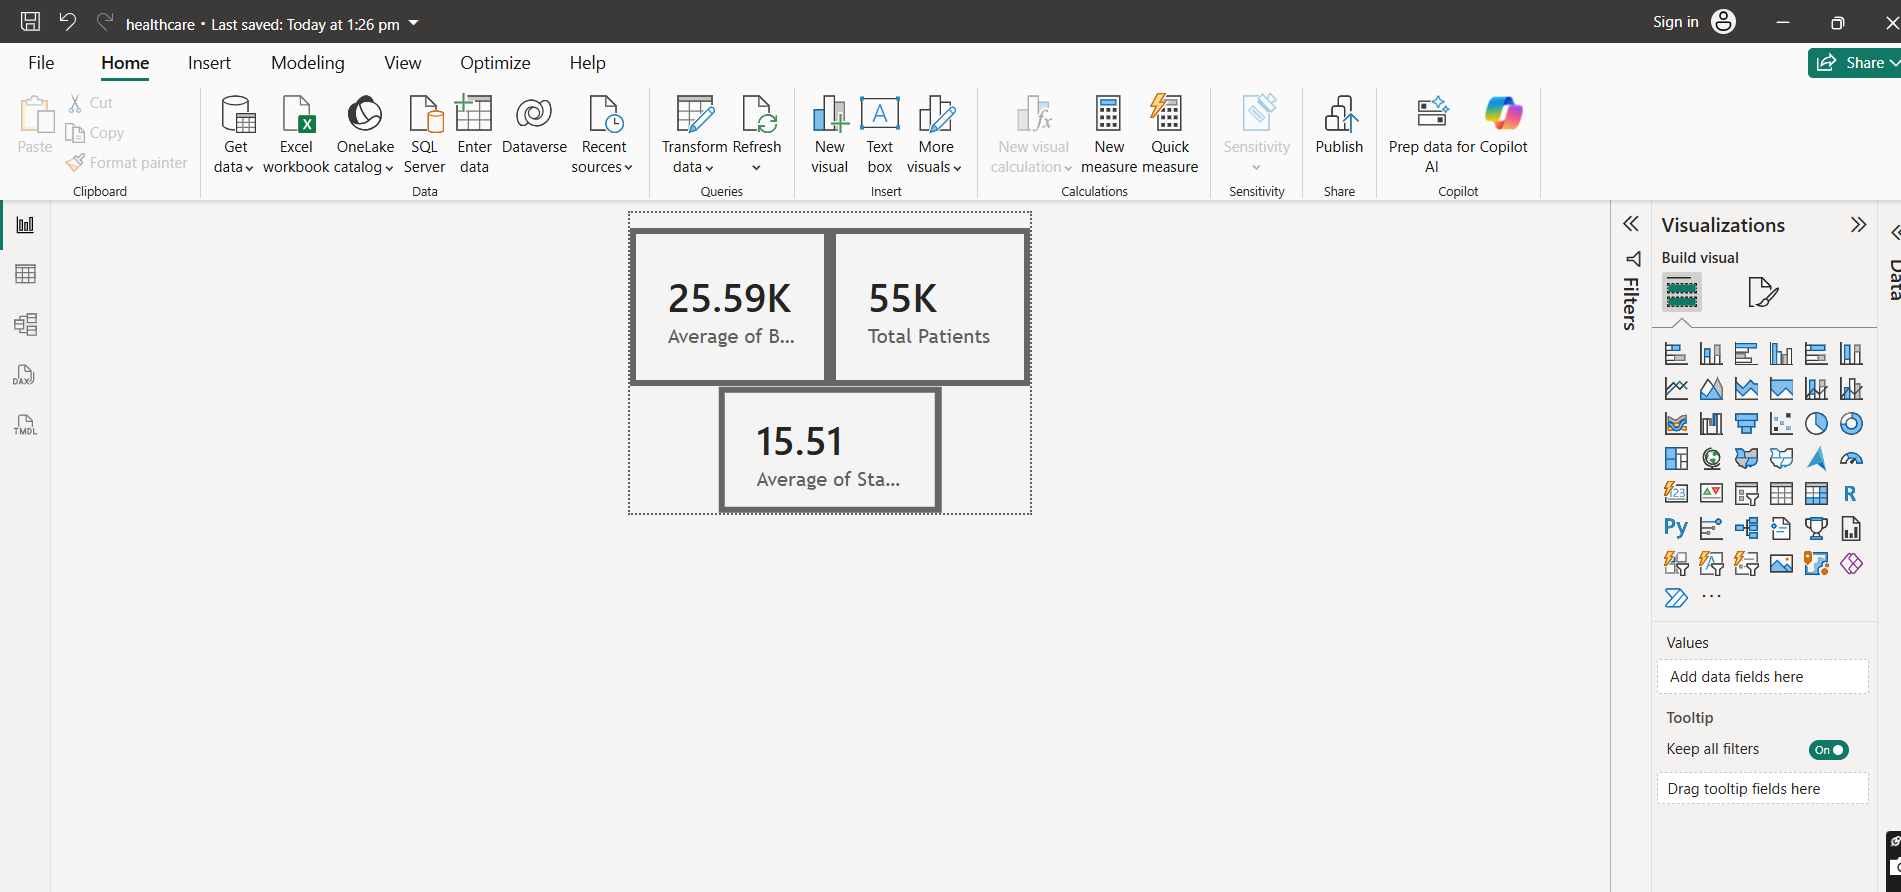

The page's visual inventory and layout, read from the dashboard file:
{"tool":"powerbi","page":{"name":"Tooltip Page","canvas":[320,240],"ordinal":2},"visuals":[{"type":"cardVisual","fields":{"Data":["Avg(healthcare_dataset.Billing Amount)"]},"box":[0,12,178,127],"z":0},{"type":"cardVisual","fields":{"Data":["healthcare_dataset.Total Patients"]},"box":[160,12,160,127],"z":1000},{"type":"cardVisual","fields":{"Data":["Avg(healthcare_dataset.Stay_Days)"]},"box":[46,120,243,120],"z":2000}]}

Visuals, with their boxes on the page's 320x240 design canvas (x1, y1, x2, y2). These are canvas units, not pixel positions in the 1901x892 screenshot, which may show the page scaled, cropped or inside an application window:
cardVisual - Avg(healthcare_dataset.Billing Amount): region(0, 12, 178, 139)
cardVisual - healthcare_dataset.Total Patients: region(160, 12, 320, 139)
cardVisual - Avg(healthcare_dataset.Stay_Days): region(46, 120, 289, 240)
